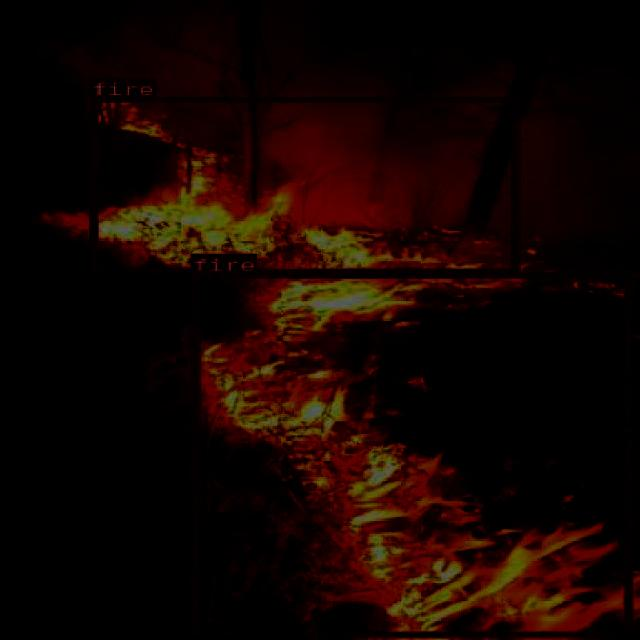fire: (190, 272, 630, 636), (89, 96, 518, 273)
